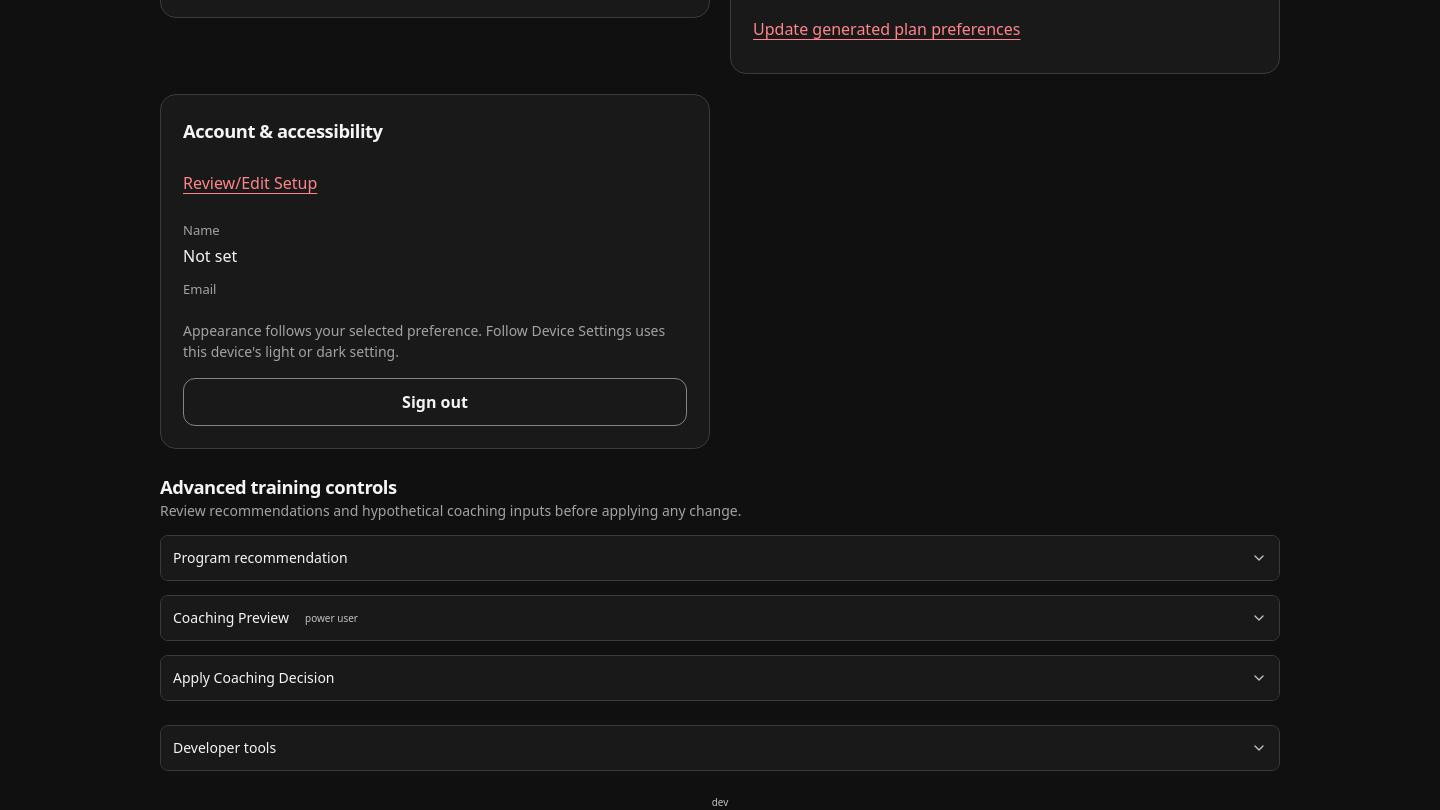
Test case: Settings adaptation apply failure exposes retry recovery actions
(page scrolled)
Click the button "Coaching Preview power user". click: x=231, y=618
box: [161, 596, 1279, 640]
(page scrolled)
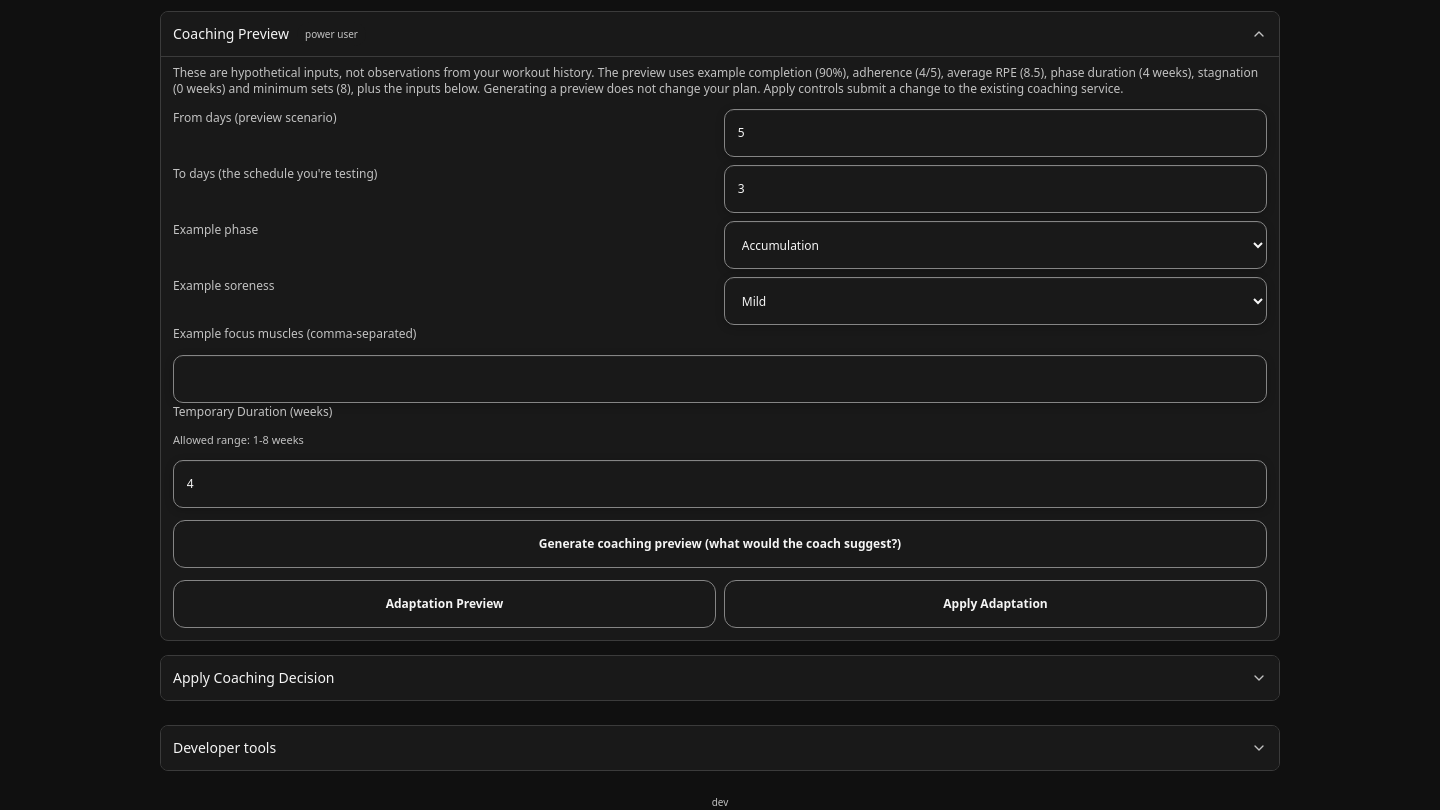
expect the button with aria-label "Apply frequency adaptation" is shown: met
Click the button with aria-label "Apply frequency adaptation". click: x=996, y=604
box: [724, 580, 1267, 628]
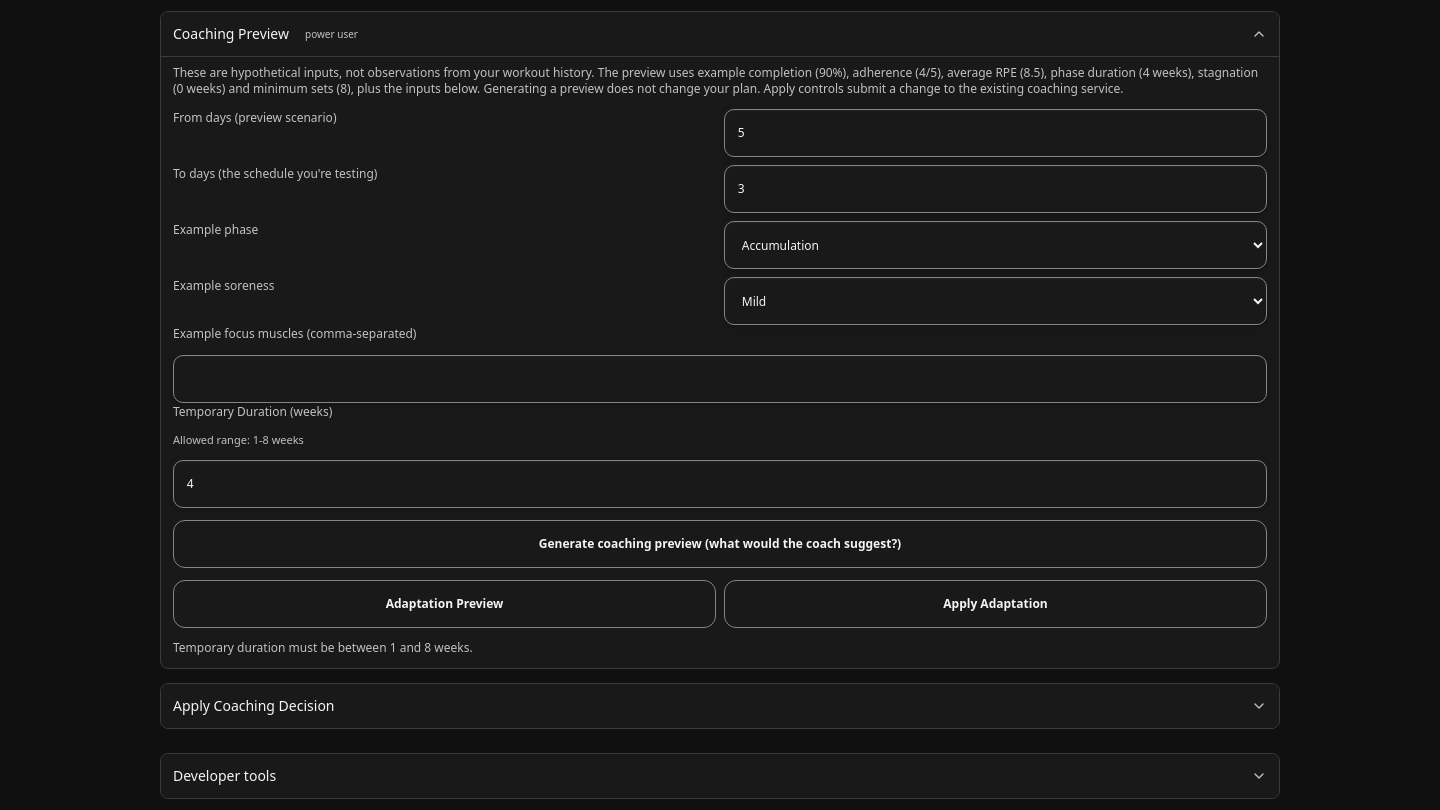
expect the button with aria-label "Apply frequency adaptation" is shown: met, box [724, 580, 1267, 628]
expect the text "Temporary duration must be between 1 and 8 weeks." is shown: met, box [173, 640, 473, 656]
